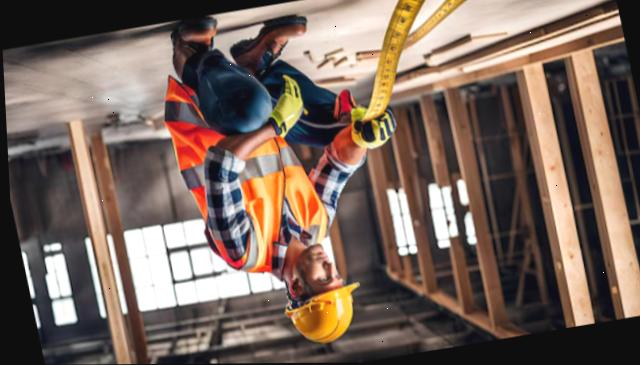helmet: (278, 283, 370, 349)
vest: (157, 62, 336, 270)
